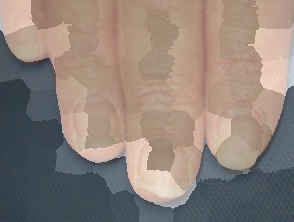Nail_psoriasis: (68, 119, 127, 165), (170, 131, 212, 188), (211, 130, 265, 173)
